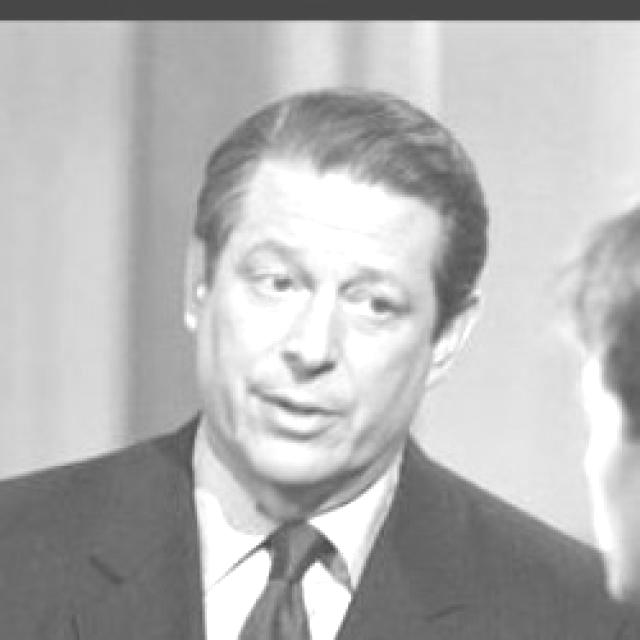real: (200, 152, 439, 484), (225, 254, 414, 333)
